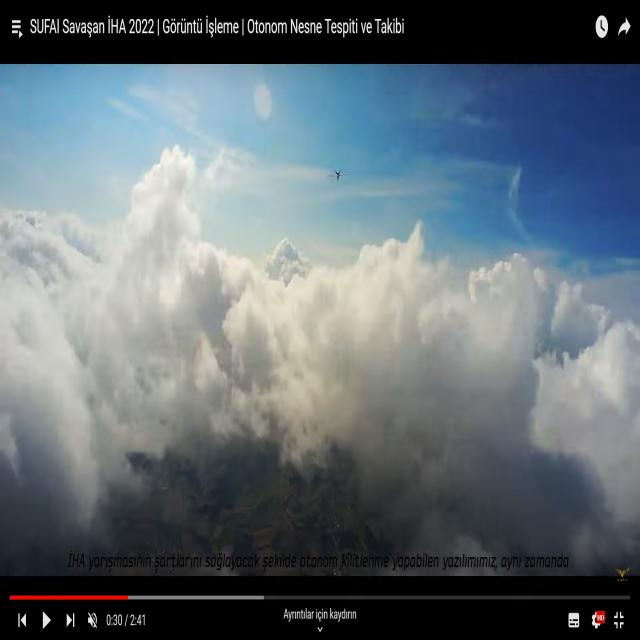iha: (327, 171, 349, 175)
